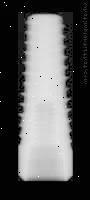AGS Medikal: (18, 12, 73, 181)
